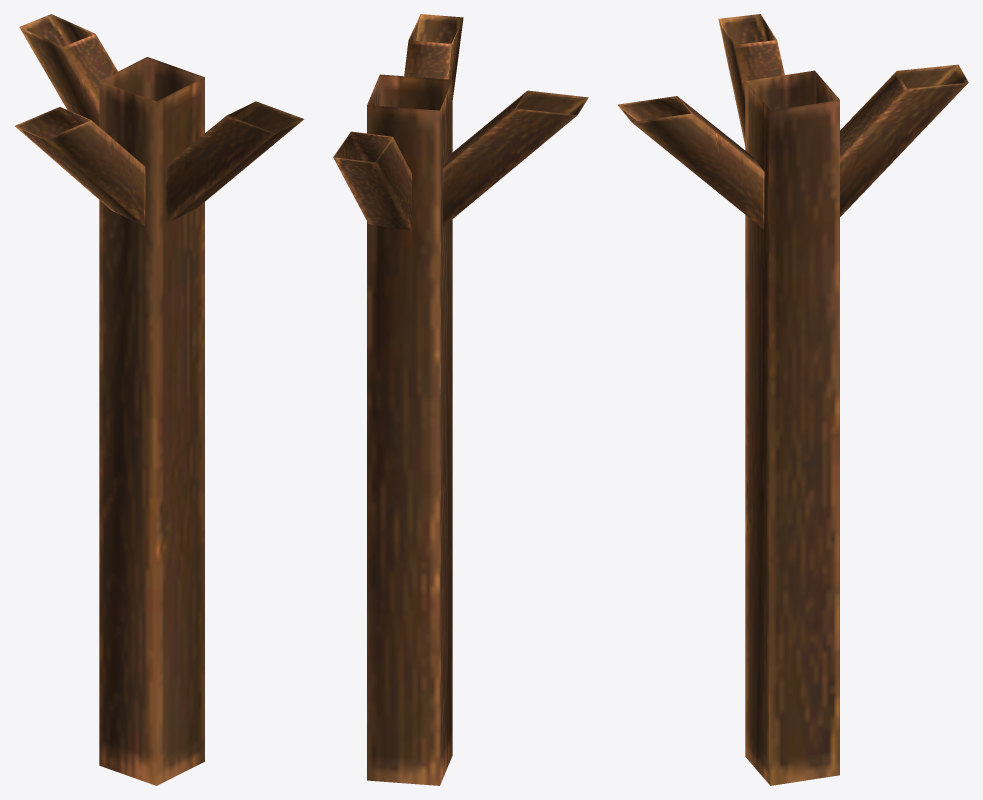
File: SWORDLIGHT20_JAILPLATSUPPORT66.fbx
3 views of the same model, side by side, from view 1: azimuth 30°, elevation 25°; view 2: azimuth 150°, elevation 25°; view 3: azimuth 270°, elevation 25° (orthographic).
Parts seen in each view (by area): view 1: SWORDLIGHT20_JAILPLATSUPPORT66; view 2: SWORDLIGHT20_JAILPLATSUPPORT66; view 3: SWORDLIGHT20_JAILPLATSUPPORT66.
Boxes of the visible parts, left/top/right/bottom form: SWORDLIGHT20_JAILPLATSUPPORT66: left=15, top=14, right=303, bottom=785; SWORDLIGHT20_JAILPLATSUPPORT66: left=333, top=14, right=588, bottom=785; SWORDLIGHT20_JAILPLATSUPPORT66: left=617, top=14, right=968, bottom=785.
Bounding box in the file's own units: 13831 × 40427 × 19003.
Materials: 1 (1 with a texture image).
